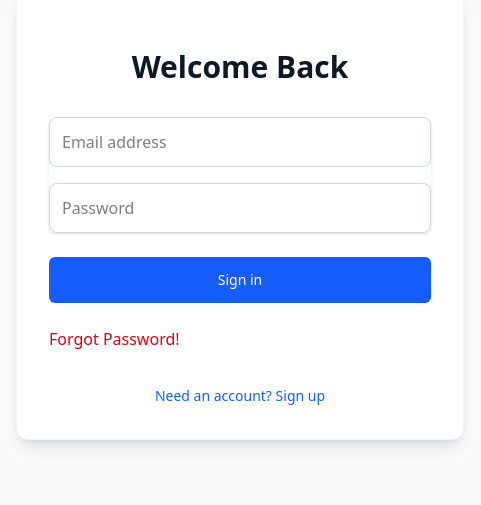
Test: AuthComponent › displays error message on failed request
Type "wrong@test.com" into the field with placeholder "Email address" at (240, 142), box left=49, top=117, right=431, bottom=167
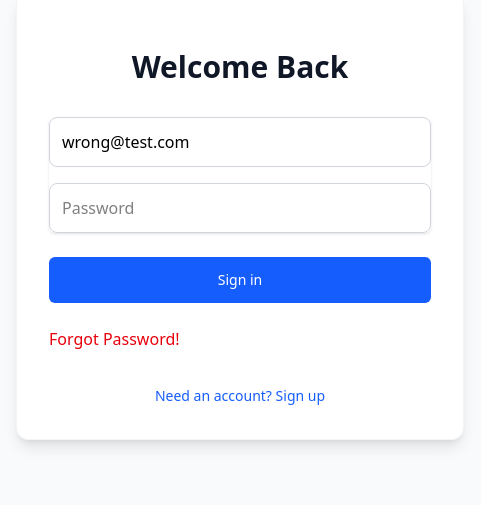
Type "wrongpass" into the password field with placeholder "Password" at (240, 208), box left=49, top=183, right=431, bottom=233
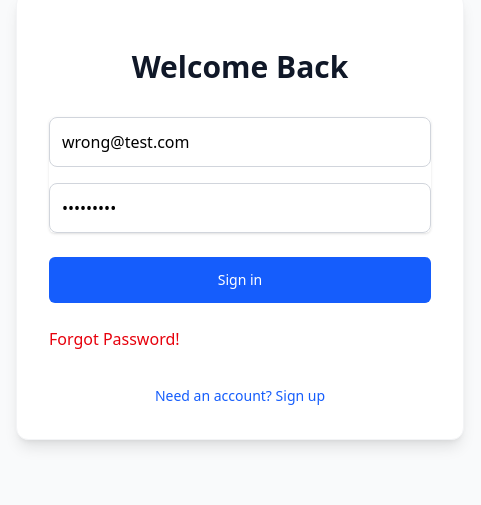
Click the button "Sign in" at (240, 280), box left=49, top=257, right=431, bottom=303
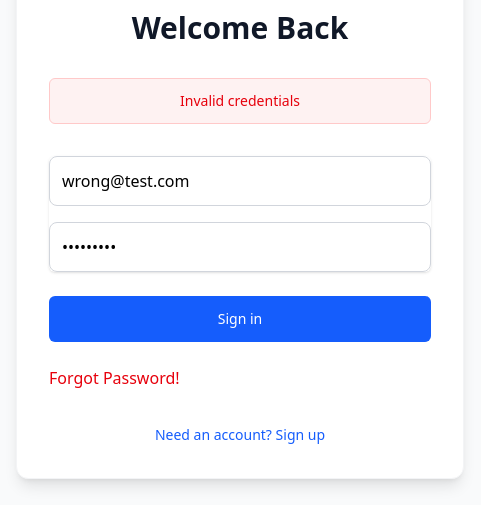
Expected: the text "Invalid credentials" is shown, left=49, top=78, right=431, bottom=124
